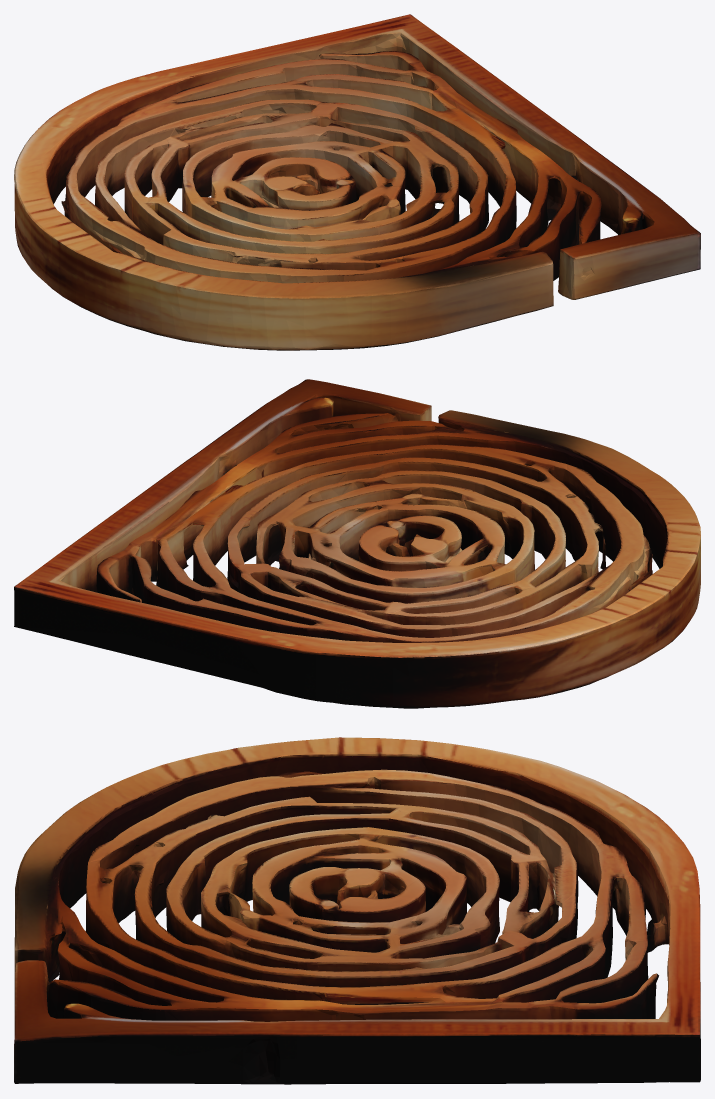
Rendered from wooden-maze-puzzle-vintage.jpeg.glb.
3 views of the same model, one above another, from view 1: azimuth 30°, elevation 25°; view 2: azimuth 150°, elevation 25°; view 3: azimuth 270°, elevation 25° (orthographic). The views are drawn at different scales.
Visible parts, largest first — view 1: world; view 2: world; view 3: world.
Boxes of the visible parts, <box> form: world: <box>14,14,700,350</box>; world: <box>14,379,700,708</box>; world: <box>14,737,700,1084</box>.
Size of the model in its own units: 1 by 0.1058 by 1.
Materials: 1 (1 with a texture image).
